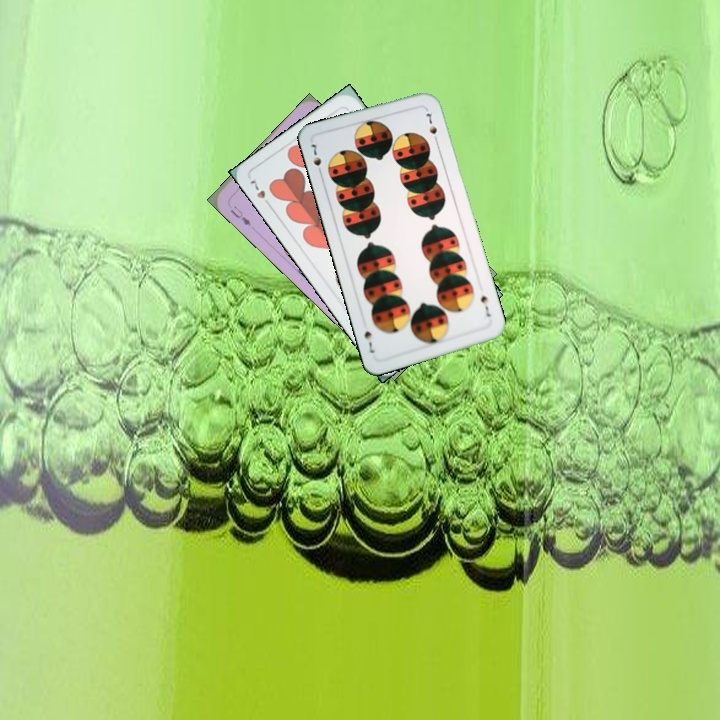EU: (226, 201, 254, 229)
H7: (246, 176, 274, 210)
S7: (307, 140, 325, 178), (477, 292, 493, 319)
